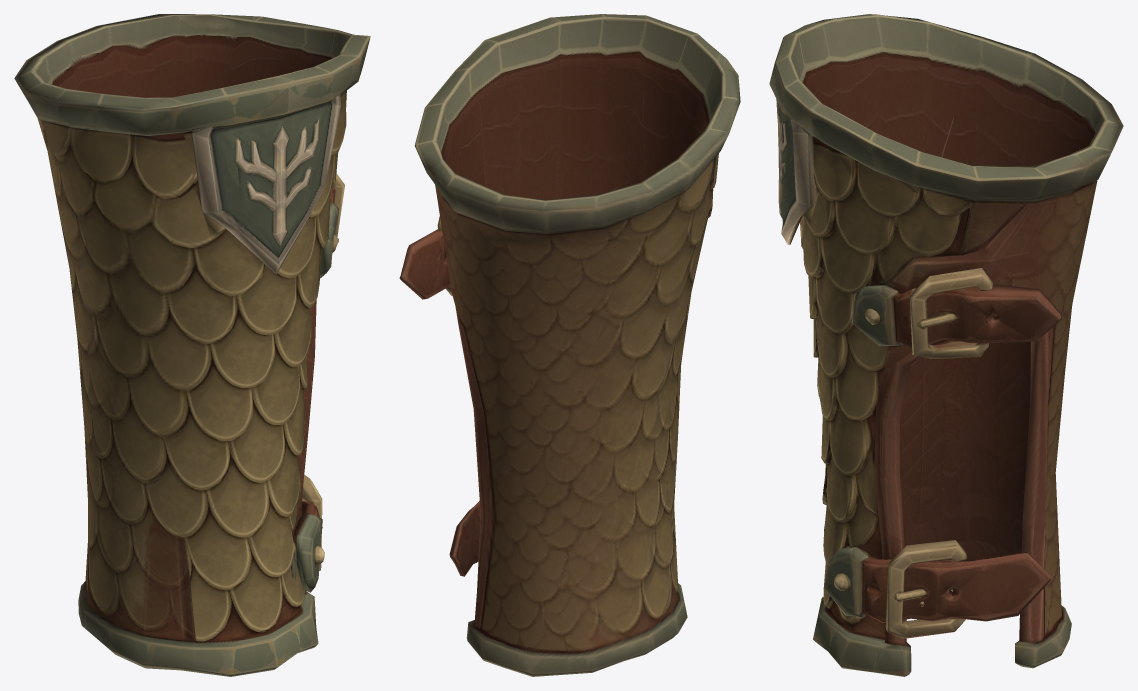
File: scaled-bracer-i1_i23d.glb
The picture shows the model from 3 angles, left to right: view 1: azimuth 30°, elevation 25°; view 2: azimuth 150°, elevation 25°; view 3: azimuth 270°, elevation 25°; orthographic projection. The views are drawn at different scales.
Bounding box in the file's own units: 0.4951 × 0.9526 × 0.5249.
1 material, 1 textured.
